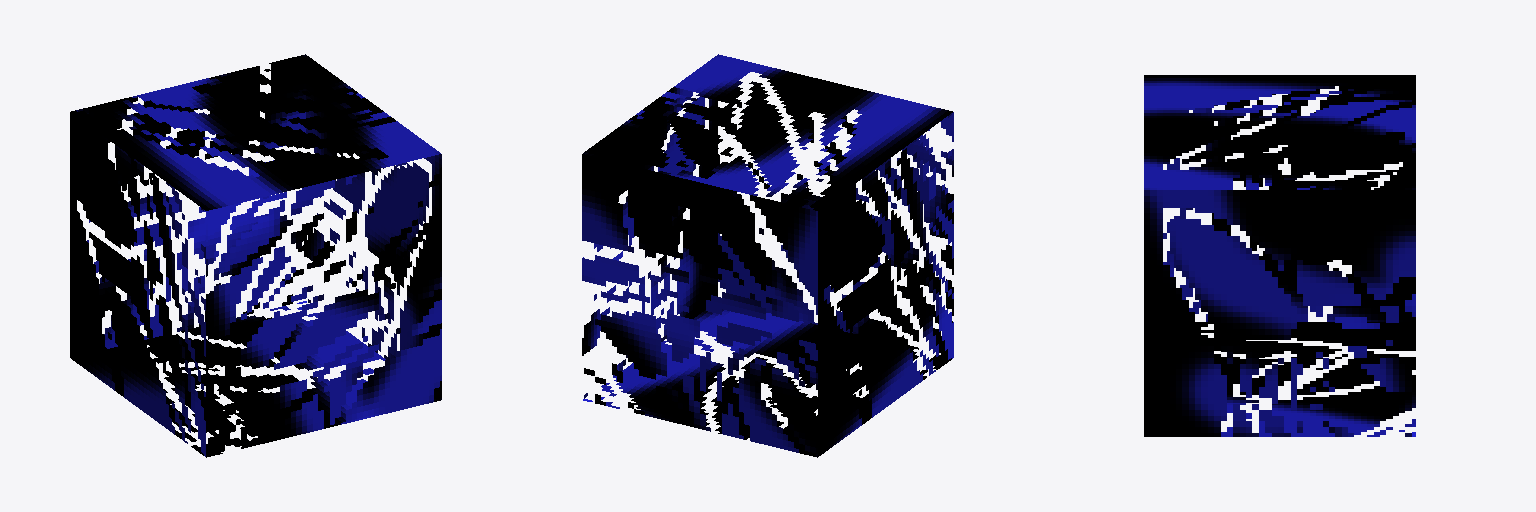
3 renders of one model, left to right at view 1: azimuth 30°, elevation 25°; view 2: azimuth 150°, elevation 25°; view 3: azimuth 270°, elevation 25°, orthographic.
Parts seen in each view (by area): view 1: Cube; view 2: Cube; view 3: Cube.
Boxes of the visible parts, x1,y1,x2,y2 form: Cube: [70, 54, 441, 457]; Cube: [582, 54, 953, 457]; Cube: [1144, 75, 1415, 436].
Size of the model in its own units: 2 by 2 by 2.
1 materials, 1 textured.